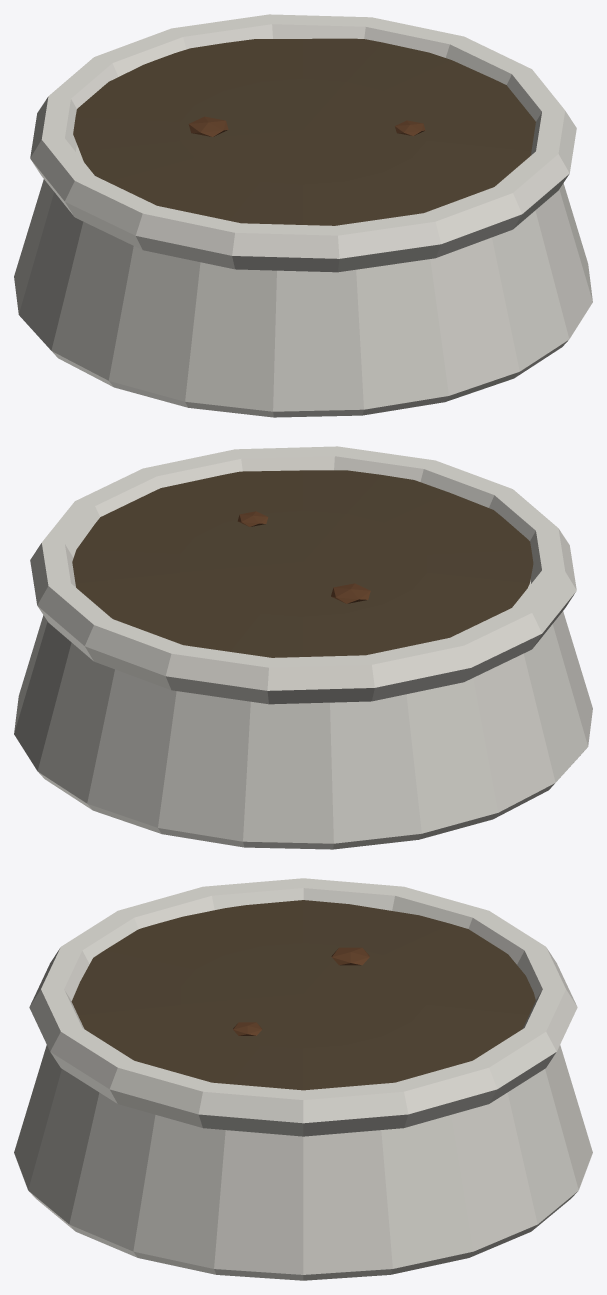
The model's file is RuinedSoup.glb.
3 renders of one model, top to bottom at view 1: azimuth 30°, elevation 25°; view 2: azimuth 150°, elevation 25°; view 3: azimuth 270°, elevation 25°, orthographic.
Visible parts, largest first — view 1: WhiteSoupBowl, RuinedSoupSurface, WhiteSoupBowlRim, SoupBurntResidue1; view 2: WhiteSoupBowl, RuinedSoupSurface, WhiteSoupBowlRim, SoupBurntResidue1; view 3: WhiteSoupBowl, RuinedSoupSurface, WhiteSoupBowlRim, SoupBurntResidue1.
Part boxes in pixels (<box>): WhiteSoupBowl: <box>14,145,592,417</box>; RuinedSoupSurface: <box>73,38,535,225</box>; WhiteSoupBowlRim: <box>30,14,576,272</box>; SoupBurntResidue1: <box>188,116,228,136</box>; WhiteSoupBowl: <box>14,580,592,849</box>; RuinedSoupSurface: <box>72,470,533,657</box>; WhiteSoupBowlRim: <box>30,446,576,704</box>; SoupBurntResidue1: <box>331,583,370,603</box>; WhiteSoupBowl: <box>14,1045,592,1280</box>; RuinedSoupSurface: <box>71,900,535,1090</box>; WhiteSoupBowlRim: <box>29,878,577,1136</box>; SoupBurntResidue1: <box>331,947,369,965</box>.
Size of the model in its own units: 0.6736 by 0.2247 by 0.6736.
